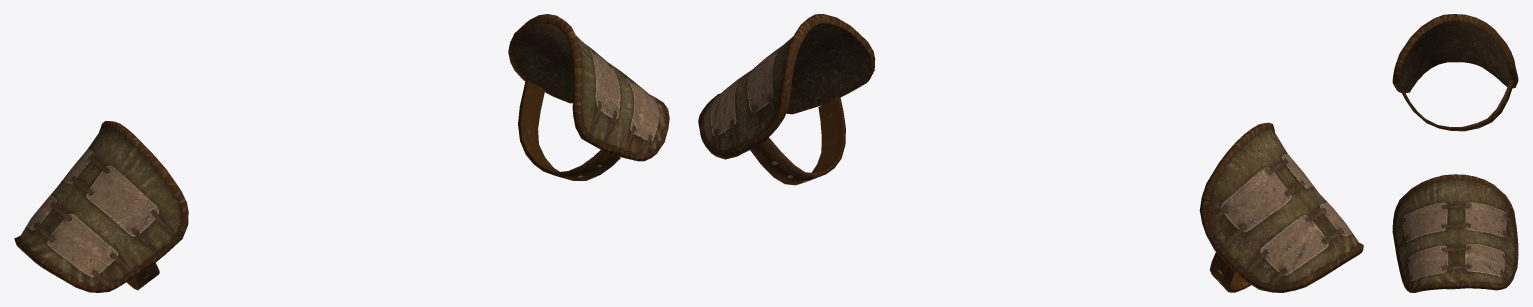
Rendered from dunland_caerdh_pauldron_light_a.fbx.
3 renders of one model, left to right at view 1: azimuth 30°, elevation 25°; view 2: azimuth 150°, elevation 25°; view 3: azimuth 270°, elevation 25°, orthographic. The views are drawn at different scales.
Visible parts, largest first — view 1: dunland_caerdh_pauldron_light_a; view 2: dunland_caerdh_pauldron_light_a; view 3: dunland_caerdh_pauldron_light_a.
Boxes of the visible parts, left/top/right/bottom form: dunland_caerdh_pauldron_light_a: left=14, top=14, right=669, bottom=292; dunland_caerdh_pauldron_light_a: left=698, top=14, right=1363, bottom=292; dunland_caerdh_pauldron_light_a: left=1392, top=14, right=1518, bottom=292.
Bounding box in the file's own units: 0.8069 × 0.1874 × 0.1898.
Materials: 1 (1 with a texture image).
